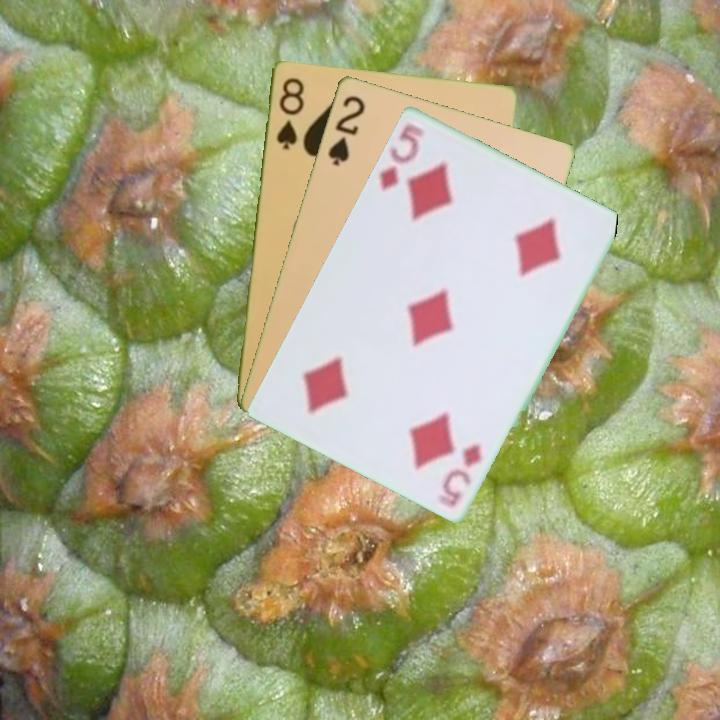2s: (324, 91, 368, 169)
5d: (376, 119, 427, 194), (440, 440, 485, 510)
8s: (272, 74, 307, 152)
